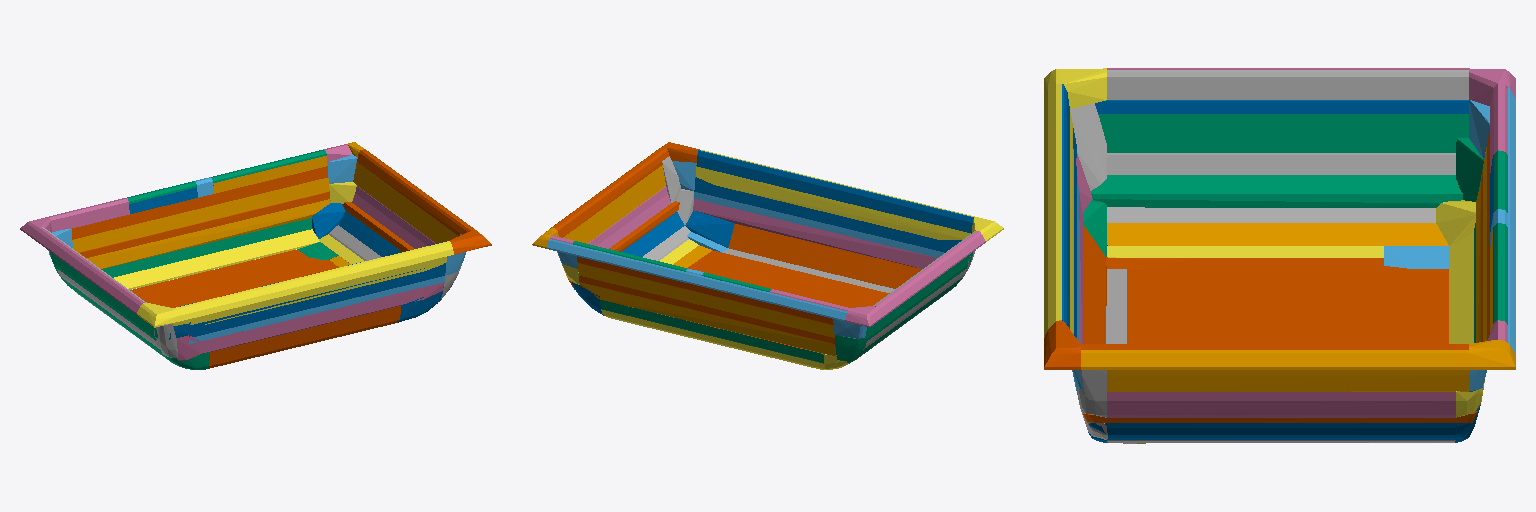
--- Render facts (derived) ---
3 views of the same robot in one strip: view 1: azimuth 30°, elevation 25°; view 2: azimuth 150°, elevation 25°; view 3: azimuth 270°, elevation 25° (orthographic).
Model root with 64 links and 63 joints (63 fixed), rooted at link_bin_convex_piece_0, posed all joints at 0.
Links seen in each view (by area): view 1: link_bin_convex_piece_45, link_bin_convex_piece_27, link_bin_convex_piece_16, link_bin_convex_piece_24, link_bin_convex_piece_19, link_bin_convex_piece_53, link_bin_convex_piece_54, link_bin_convex_piece_13, link_bin_convex_piece_28, link_bin_convex_piece_18, link_bin_convex_piece_0, link_bin_convex_piece_35 (+21 smaller); view 2: link_bin_convex_piece_53, link_bin_convex_piece_60, link_bin_convex_piece_45, link_bin_convex_piece_35, link_bin_convex_piece_54, link_bin_convex_piece_17, link_bin_convex_piece_16, link_bin_convex_piece_24, link_bin_convex_piece_28, link_bin_convex_piece_0, link_bin_convex_piece_18, link_bin_convex_piece_29 (+16 smaller); view 3: link_bin_convex_piece_45, link_bin_convex_piece_26, link_bin_convex_piece_58, link_bin_convex_piece_31, link_bin_convex_piece_32, link_bin_convex_piece_0, link_bin_convex_piece_48, link_bin_convex_piece_15, link_bin_convex_piece_36, link_bin_convex_piece_14, link_bin_convex_piece_12, link_bin_convex_piece_23 (+28 smaller).
Link boxes in pixels (box(x1,y1,x2,y2)): link_bin_convex_piece_45: box(130, 250, 338, 307); link_bin_convex_piece_27: box(174, 241, 453, 321); link_bin_convex_piece_16: box(72, 178, 329, 252); link_bin_convex_piece_24: box(86, 199, 330, 268); link_bin_convex_piece_19: box(114, 229, 319, 289); link_bin_convex_piece_53: box(207, 306, 400, 368); link_bin_convex_piece_54: box(201, 282, 444, 353); link_bin_convex_piece_13: box(72, 166, 327, 239); link_bin_convex_piece_28: box(189, 263, 445, 336); link_bin_convex_piece_18: box(101, 218, 312, 277); link_bin_convex_piece_0: box(353, 162, 458, 243); link_bin_convex_piece_35: box(172, 257, 446, 325); link_bin_convex_piece_53: box(728, 224, 921, 288); link_bin_convex_piece_60: box(696, 150, 973, 233); link_bin_convex_piece_45: box(688, 250, 889, 353); link_bin_convex_piece_35: box(696, 166, 970, 239); link_bin_convex_piece_54: box(693, 199, 936, 268); link_bin_convex_piece_17: box(547, 239, 847, 321); link_bin_convex_piece_16: box(578, 263, 834, 337); link_bin_convex_piece_24: box(579, 282, 836, 356); link_bin_convex_piece_28: box(694, 177, 951, 252); link_bin_convex_piece_0: box(563, 165, 665, 243); link_bin_convex_piece_18: box(600, 300, 823, 363); link_bin_convex_piece_29: box(552, 147, 668, 237); link_bin_convex_piece_45: box(1127, 258, 1448, 343); link_bin_convex_piece_26: box(1098, 114, 1468, 152); link_bin_convex_piece_58: box(1091, 175, 1462, 207); link_bin_convex_piece_31: box(1107, 70, 1468, 99); link_bin_convex_piece_32: box(1081, 350, 1501, 369); link_bin_convex_piece_0: box(1107, 370, 1468, 391); link_bin_convex_piece_48: box(1107, 223, 1448, 245); link_bin_convex_piece_15: box(1107, 153, 1455, 174); link_bin_convex_piece_36: box(1089, 423, 1471, 439); link_bin_convex_piece_14: box(1107, 403, 1455, 417); link_bin_convex_piece_12: box(1095, 100, 1468, 113); link_bin_convex_piece_23: box(1107, 207, 1435, 222).
Bounding box of the posed robot: 0.6779 × 0.4662 × 0.1545 m (x, y, z).
Meshes: 64 distinct files referenced, 64 mesh visuals loaded (64 OBJ).

robot.urdf — root:
<robot name="root">
  <link name="link_bin_convex_piece_0">
    <inertial>
      <origin xyz="0 0 0" rpy="0 0 0"/>
      <mass value="3.91E-02"/>
      <inertia ixx="6.03E-04" ixy="-1.07E-04" ixz="-8.19E-04" iyy="3.88E-03" iyz="-2.38E-05" izz="4.12E-03"/>
    </inertial>
    <visual>
      <origin xyz="0 0 0" rpy="0 0 0"/>
      <geometry>
        <mesh filename="bin_convex_piece_0.obj" scale="1.0000E+00 1.0000E+00 1.0000E+00"/>
      </geometry>
      <material name=""/>
    </visual>
    <collision>
      <origin xyz="0 0 0" rpy="0 0 0"/>
      <geometry>
        <mesh filename="bin_convex_piece_0.obj" scale="1.0000E+00 1.0000E+00 1.0000E+00"/>
      </geometry>
    </collision>
  </link>
  <link name="link_bin_convex_piece_1">
    <inertial>
      <origin xyz="0 0 0" rpy="0 0 0"/>
      <mass value="1.72E-02"/>
      <inertia ixx="9.69E-04" ixy="-7.27E-05" ixz="-3.28E-05" iyy="1.72E-04" iyz="-3.63E-04" izz="8.13E-04"/>
    </inertial>
    <visual>
      <origin xyz="0 0 0" rpy="0 0 0"/>
      <geometry>
        <mesh filename="bin_convex_piece_1.obj" scale="1.0000E+00 1.0000E+00 1.0000E+00"/>
      </geometry>
      <material name=""/>
    </visual>
    <collision>
      <origin xyz="0 0 0" rpy="0 0 0"/>
      <geometry>
        <mesh filename="bin_convex_piece_1.obj" scale="1.0000E+00 1.0000E+00 1.0000E+00"/>
      </geometry>
    </collision>
  </link>
  <joint name="link_bin_convex_piece_1_joint" type="fixed">
    <origin xyz="0 0 0" rpy="0 0 0"/>
    <parent link="link_bin_convex_piece_0"/>
    <child link="link_bin_convex_piece_1"/>
  </joint>
  <link name="link_bin_convex_piece_2">
    <inertial>
      <origin xyz="0 0 0" rpy="0 0 0"/>
      <mass value="4.47E-02"/>
      <inertia ixx="2.61E-03" ixy="-1.46E-03" ixz="-6.95E-04" iyy="1.68E-03" iyz="-1.01E-03" izz="3.33E-03"/>
    </inertial>
    <visual>
      <origin xyz="0 0 0" rpy="0 0 0"/>
      <geometry>
        <mesh filename="bin_convex_piece_2.obj" scale="1.0000E+00 1.0000E+00 1.0000E+00"/>
      </geometry>
      <material name=""/>
    </visual>
    <collision>
      <origin xyz="0 0 0" rpy="0 0 0"/>
      <geometry>
        <mesh filename="bin_convex_piece_2.obj" scale="1.0000E+00 1.0000E+00 1.0000E+00"/>
      </geometry>
    </collision>
  </link>
  <joint name="link_bin_convex_piece_2_joint" type="fixed">
    <origin xyz="0 0 0" rpy="0 0 0"/>
    <parent link="link_bin_convex_piece_1"/>
    <child link="link_bin_convex_piece_2"/>
  </joint>
  <link name="link_bin_convex_piece_3">
    <inertial>
      <origin xyz="0 0 0" rpy="0 0 0"/>
      <mass value="4.28E-02"/>
      <inertia ixx="4.44E-04" ixy="-1.23E-04" ixz="3.74E-04" iyy="2.42E-03" iyz="1.89E-05" izz="2.75E-03"/>
    </inertial>
    <visual>
      <origin xyz="0 0 0" rpy="0 0 0"/>
      <geometry>
        <mesh filename="bin_convex_piece_3.obj" scale="1.0000E+00 1.0000E+00 1.0000E+00"/>
      </geometry>
      <material name=""/>
    </visual>
    <collision>
      <origin xyz="0 0 0" rpy="0 0 0"/>
      <geometry>
        <mesh filename="bin_convex_piece_3.obj" scale="1.0000E+00 1.0000E+00 1.0000E+00"/>
      </geometry>
    </collision>
  </link>
  <joint name="link_bin_convex_piece_3_joint" type="fixed">
    <origin xyz="0 0 0" rpy="0 0 0"/>
    <parent link="link_bin_convex_piece_2"/>
    <child link="link_bin_convex_piece_3"/>
  </joint>
  <link name="link_bin_convex_piece_4">
    <inertial>
      <origin xyz="0 0 0" rpy="0 0 0"/>
      <mass value="6.29E-03"/>
      <inertia ixx="3.31E-04" ixy="8.61E-05" ixz="3.76E-05" iyy="8.98E-05" iyz="-1.21E-04" izz="3.14E-04"/>
    </inertial>
    <visual>
      <origin xyz="0 0 0" rpy="0 0 0"/>
      <geometry>
        <mesh filename="bin_convex_piece_4.obj" scale="1.0000E+00 1.0000E+00 1.0000E+00"/>
      </geometry>
      <material name=""/>
    </visual>
    <collision>
      <origin xyz="0 0 0" rpy="0 0 0"/>
      <geometry>
        <mesh filename="bin_convex_piece_4.obj" scale="1.0000E+00 1.0000E+00 1.0000E+00"/>
      </geometry>
    </collision>
  </link>
  <joint name="link_bin_convex_piece_4_joint" type="fixed">
    <origin xyz="0 0 0" rpy="0 0 0"/>
    <parent link="link_bin_convex_piece_3"/>
    <child link="link_bin_convex_piece_4"/>
  </joint>
  <link name="link_bin_convex_piece_5">
    <inertial>
      <origin xyz="0 0 0" rpy="0 0 0"/>
      <mass value="1.16E-02"/>
      <inertia ixx="4.76E-04" ixy="-1.43E-05" ixz="-2.08E-06" iyy="2.63E-04" iyz="-6.71E-05" izz="7.20E-04"/>
    </inertial>
    <visual>
      <origin xyz="0 0 0" rpy="0 0 0"/>
      <geometry>
        <mesh filename="bin_convex_piece_5.obj" scale="1.0000E+00 1.0000E+00 1.0000E+00"/>
      </geometry>
      <material name=""/>
    </visual>
    <collision>
      <origin xyz="0 0 0" rpy="0 0 0"/>
      <geometry>
        <mesh filename="bin_convex_piece_5.obj" scale="1.0000E+00 1.0000E+00 1.0000E+00"/>
      </geometry>
    </collision>
  </link>
  <joint name="link_bin_convex_piece_5_joint" type="fixed">
    <origin xyz="0 0 0" rpy="0 0 0"/>
    <parent link="link_bin_convex_piece_4"/>
    <child link="link_bin_convex_piece_5"/>
  </joint>
  <link name="link_bin_convex_piece_6">
    <inertial>
      <origin xyz="0 0 0" rpy="0 0 0"/>
      <mass value="1.32E-02"/>
      <inertia ixx="1.54E-04" ixy="-6.06E-06" ixz="-1.66E-04" iyy="1.23E-03" iyz="-8.32E-07" izz="1.34E-03"/>
    </inertial>
    <visual>
      <origin xyz="0 0 0" rpy="0 0 0"/>
      <geometry>
        <mesh filename="bin_convex_piece_6.obj" scale="1.0000E+00 1.0000E+00 1.0000E+00"/>
      </geometry>
      <material name=""/>
    </visual>
    <collision>
      <origin xyz="0 0 0" rpy="0 0 0"/>
      <geometry>
        <mesh filename="bin_convex_piece_6.obj" scale="1.0000E+00 1.0000E+00 1.0000E+00"/>
      </geometry>
    </collision>
  </link>
  <joint name="link_bin_convex_piece_6_joint" type="fixed">
    <origin xyz="0 0 0" rpy="0 0 0"/>
    <parent link="link_bin_convex_piece_5"/>
    <child link="link_bin_convex_piece_6"/>
  </joint>
  <link name="link_bin_convex_piece_7">
    <inertial>
      <origin xyz="0 0 0" rpy="0 0 0"/>
      <mass value="4.57E-02"/>
      <inertia ixx="1.28E-03" ixy="6.74E-19" ixz="6.07E-20" iyy="5.79E-04" iyz="-3.28E-04" izz="1.68E-03"/>
    </inertial>
    <visual>
      <origin xyz="0 0 0" rpy="0 0 0"/>
      <geometry>
        <mesh filename="bin_convex_piece_7.obj" scale="1.0000E+00 1.0000E+00 1.0000E+00"/>
      </geometry>
      <material name=""/>
    </visual>
    <collision>
      <origin xyz="0 0 0" rpy="0 0 0"/>
      <geometry>
        <mesh filename="bin_convex_piece_7.obj" scale="1.0000E+00 1.0000E+00 1.0000E+00"/>
      </geometry>
    </collision>
  </link>
  <joint name="link_bin_convex_piece_7_joint" type="fixed">
    <origin xyz="0 0 0" rpy="0 0 0"/>
    <parent link="link_bin_convex_piece_6"/>
    <child link="link_bin_convex_piece_7"/>
  </joint>
  <link name="link_bin_convex_piece_8">
    <inertial>
      <origin xyz="0 0 0" rpy="0 0 0"/>
      <mass value="1.05E-02"/>
      <inertia ixx="5.51E-04" ixy="-3.30E-04" ixz="-1.44E-04" iyy="3.70E-04" iyz="-2.02E-04" izz="7.44E-04"/>
    </inertial>
    <visual>
      <origin xyz="0 0 0" rpy="0 0 0"/>
      <geometry>
        <mesh filename="bin_convex_piece_8.obj" scale="1.0000E+00 1.0000E+00 1.0000E+00"/>
      </geometry>
      <material name=""/>
    </visual>
    <collision>
      <origin xyz="0 0 0" rpy="0 0 0"/>
      <geometry>
        <mesh filename="bin_convex_piece_8.obj" scale="1.0000E+00 1.0000E+00 1.0000E+00"/>
      </geometry>
    </collision>
  </link>
  <joint name="link_bin_convex_piece_8_joint" type="fixed">
    <origin xyz="0 0 0" rpy="0 0 0"/>
    <parent link="link_bin_convex_piece_7"/>
    <child link="link_bin_convex_piece_8"/>
  </joint>
  <link name="link_bin_convex_piece_9">
    <inertial>
      <origin xyz="0 0 0" rpy="0 0 0"/>
      <mass value="1.15E-02"/>
      <inertia ixx="4.71E-04" ixy="1.25E-05" ixz="-1.83E-06" iyy="2.61E-04" iyz="6.64E-05" izz="7.12E-04"/>
    </inertial>
    <visual>
      <origin xyz="0 0 0" rpy="0 0 0"/>
      <geometry>
        <mesh filename="bin_convex_piece_9.obj" scale="1.0000E+00 1.0000E+00 1.0000E+00"/>
      </geometry>
      <material name=""/>
    </visual>
    <collision>
      <origin xyz="0 0 0" rpy="0 0 0"/>
      <geometry>
        <mesh filename="bin_convex_piece_9.obj" scale="1.0000E+00 1.0000E+00 1.0000E+00"/>
      </geometry>
    </collision>
  </link>
  <joint name="link_bin_convex_piece_9_joint" type="fixed">
    <origin xyz="0 0 0" rpy="0 0 0"/>
    <parent link="link_bin_convex_piece_8"/>
    <child link="link_bin_convex_piece_9"/>
  </joint>
  <link name="link_bin_convex_piece_10">
    <inertial>
      <origin xyz="0 0 0" rpy="0 0 0"/>
      <mass value="2.69E-02"/>
      <inertia ixx="1.57E-03" ixy="3.82E-04" ixz="1.81E-04" iyy="4.44E-04" iyz="-6.07E-04" izz="1.43E-03"/>
    </inertial>
    <visual>
      <origin xyz="0 0 0" rpy="0 0 0"/>
      <geometry>
        <mesh filename="bin_convex_piece_10.obj" scale="1.0000E+00 1.0000E+00 1.0000E+00"/>
      </geometry>
      <material name=""/>
    </visual>
    <collision>
      <origin xyz="0 0 0" rpy="0 0 0"/>
      <geometry>
        <mesh filename="bin_convex_piece_10.obj" scale="1.0000E+00 1.0000E+00 1.0000E+00"/>
      </geometry>
    </collision>
  </link>
  <joint name="link_bin_convex_piece_10_joint" type="fixed">
    <origin xyz="0 0 0" rpy="0 0 0"/>
    <parent link="link_bin_convex_piece_9"/>
    <child link="link_bin_convex_piece_10"/>
  </joint>
  <link name="link_bin_convex_piece_11">
    <inertial>
      <origin xyz="0 0 0" rpy="0 0 0"/>
      <mass value="3.53E-02"/>
      <inertia ixx="3.27E-04" ixy="-2.65E-04" ixz="-3.23E-04" iyy="1.70E-03" iyz="-5.24E-05" izz="1.90E-03"/>
    </inertial>
    <visual>
      <origin xyz="0 0 0" rpy="0 0 0"/>
      <geometry>
        <mesh filename="bin_convex_piece_11.obj" scale="1.0000E+00 1.0000E+00 1.0000E+00"/>
      </geometry>
      <material name=""/>
    </visual>
    <collision>
      <origin xyz="0 0 0" rpy="0 0 0"/>
      <geometry>
        <mesh filename="bin_convex_piece_11.obj" scale="1.0000E+00 1.0000E+00 1.0000E+00"/>
      </geometry>
    </collision>
  </link>
  <joint name="link_bin_convex_piece_11_joint" type="fixed">
    <origin xyz="0 0 0" rpy="0 0 0"/>
    <parent link="link_bin_convex_piece_10"/>
    <child link="link_bin_convex_piece_11"/>
  </joint>
  <link name="link_bin_convex_piece_12">
    <inertial>
      <origin xyz="0 0 0" rpy="0 0 0"/>
      <mass value="1.16E-02"/>
      <inertia ixx="1.98E-04" ixy="5.41E-06" ixz="2.68E-04" iyy="1.17E-03" iyz="-1.30E-06" izz="1.24E-03"/>
    </inertial>
    <visual>
      <origin xyz="0 0 0" rpy="0 0 0"/>
      <geometry>
        <mesh filename="bin_convex_piece_12.obj" scale="1.0000E+00 1.0000E+00 1.0000E+00"/>
      </geometry>
      <material name=""/>
    </visual>
    <collision>
      <origin xyz="0 0 0" rpy="0 0 0"/>
      <geometry>
        <mesh filename="bin_convex_piece_12.obj" scale="1.0000E+00 1.0000E+00 1.0000E+00"/>
      </geometry>
    </collision>
  </link>
  <joint name="link_bin_convex_piece_12_joint" type="fixed">
    <origin xyz="0 0 0" rpy="0 0 0"/>
    <parent link="link_bin_convex_piece_11"/>
    <child link="link_bin_convex_piece_12"/>
  </joint>
  <link name="link_bin_convex_piece_13">
    <inertial>
      <origin xyz="0 0 0" rpy="0 0 0"/>
      <mass value="1.80E-02"/>
      <inertia ixx="8.65E-04" ixy="-2.43E-05" ixz="-8.38E-06" iyy="4.91E-04" iyz="-2.66E-04" izz="1.17E-03"/>
    </inertial>
    <visual>
      <origin xyz="0 0 0" rpy="0 0 0"/>
      <geometry>
        <mesh filename="bin_convex_piece_13.obj" scale="1.0000E+00 1.0000E+00 1.0000E+00"/>
      </geometry>
      <material name=""/>
    </visual>
    <collision>
      <origin xyz="0 0 0" rpy="0 0 0"/>
      <geometry>
        <mesh filename="bin_convex_piece_13.obj" scale="1.0000E+00 1.0000E+00 1.0000E+00"/>
      </geometry>
    </collision>
  </link>
  <joint name="link_bin_convex_piece_13_joint" type="fixed">
    <origin xyz="0 0 0" rpy="0 0 0"/>
    <parent link="link_bin_convex_piece_12"/>
    <child link="link_bin_convex_piece_13"/>
  </joint>
  <link name="link_bin_convex_piece_14">
    <inertial>
      <origin xyz="0 0 0" rpy="0 0 0"/>
      <mass value="2.27E-02"/>
      <inertia ixx="2.40E-04" ixy="-1.28E-05" ixz="-1.71E-04" iyy="2.02E-03" iyz="-1.07E-06" izz="2.23E-03"/>
    </inertial>
    <visual>
      <origin xyz="0 0 0" rpy="0 0 0"/>
      <geometry>
        <mesh filename="bin_convex_piece_14.obj" scale="1.0000E+00 1.0000E+00 1.0000E+00"/>
      </geometry>
      <material name=""/>
    </visual>
    <collision>
      <origin xyz="0 0 0" rpy="0 0 0"/>
      <geometry>
        <mesh filename="bin_convex_piece_14.obj" scale="1.0000E+00 1.0000E+00 1.0000E+00"/>
      </geometry>
    </collision>
  </link>
  <joint name="link_bin_convex_piece_14_joint" type="fixed">
    <origin xyz="0 0 0" rpy="0 0 0"/>
    <parent link="link_bin_convex_piece_13"/>
    <child link="link_bin_convex_piece_14"/>
  </joint>
  <link name="link_bin_convex_piece_15">
    <inertial>
      <origin xyz="0 0 0" rpy="0 0 0"/>
      <mass value="2.90E-02"/>
      <inertia ixx="2.97E-04" ixy="1.47E-05" ixz="1.49E-04" iyy="2.52E-03" iyz="-8.75E-07" izz="2.79E-03"/>
    </inertial>
    <visual>
      <origin xyz="0 0 0" rpy="0 0 0"/>
      <geometry>
        <mesh filename="bin_convex_piece_15.obj" scale="1.0000E+00 1.0000E+00 1.0000E+00"/>
      </geometry>
      <material name=""/>
    </visual>
    <collision>
      <origin xyz="0 0 0" rpy="0 0 0"/>
      <geometry>
        <mesh filename="bin_convex_piece_15.obj" scale="1.0000E+00 1.0000E+00 1.0000E+00"/>
      </geometry>
    </collision>
  </link>
  <joint name="link_bin_convex_piece_15_joint" type="fixed">
    <origin xyz="0 0 0" rpy="0 0 0"/>
    <parent link="link_bin_convex_piece_14"/>
    <child link="link_bin_convex_piece_15"/>
  </joint>
  <link name="link_bin_convex_piece_16">
    <inertial>
      <origin xyz="0 0 0" rpy="0 0 0"/>
      <mass value="2.29E-02"/>
      <inertia ixx="1.00E-03" ixy="-3.02E-05" ixz="-7.22E-06" iyy="5.61E-04" iyz="-2.26E-04" izz="1.45E-03"/>
    </inertial>
    <visual>
      <origin xyz="0 0 0" rpy="0 0 0"/>
      <geometry>
        <mesh filename="bin_convex_piece_16.obj" scale="1.0000E+00 1.0000E+00 1.0000E+00"/>
      </geometry>
      <material name=""/>
    </visual>
    <collision>
      <origin xyz="0 0 0" rpy="0 0 0"/>
      <geometry>
        <mesh filename="bin_convex_piece_16.obj" scale="1.0000E+00 1.0000E+00 1.0000E+00"/>
      </geometry>
    </collision>
  </link>
  <joint name="link_bin_convex_piece_16_joint" type="fixed">
    <origin xyz="0 0 0" rpy="0 0 0"/>
    <parent link="link_bin_convex_piece_15"/>
    <child link="link_bin_convex_piece_16"/>
  </joint>
  <link name="link_bin_convex_piece_17">
    <inertial>
      <origin xyz="0 0 0" rpy="0 0 0"/>
      <mass value="4.82E-02"/>
      <inertia ixx="2.99E-03" ixy="-1.08E-04" ixz="-4.51E-05" iyy="1.89E-03" iyz="-1.06E-03" izz="3.99E-03"/>
    </inertial>
    <visual>
      <origin xyz="0 0 0" rpy="0 0 0"/>
      <geometry>
        <mesh filename="bin_convex_piece_17.obj" scale="1.0000E+00 1.0000E+00 1.0000E+00"/>
      </geometry>
      <material name=""/>
    </visual>
    <collision>
      <origin xyz="0 0 0" rpy="0 0 0"/>
      <geometry>
        <mesh filename="bin_convex_piece_17.obj" scale="1.0000E+00 1.0000E+00 1.0000E+00"/>
      </geometry>
    </collision>
  </link>
  <joint name="link_bin_convex_piece_17_joint" type="fixed">
    <origin xyz="0 0 0" rpy="0 0 0"/>
    <parent link="link_bin_convex_piece_16"/>
    <child link="link_bin_convex_piece_17"/>
  </joint>
  <link name="link_bin_convex_piece_18">
    <inertial>
      <origin xyz="0 0 0" rpy="0 0 0"/>
      <mass value="1.90E-02"/>
      <inertia ixx="7.21E-04" ixy="-1.59E-06" ixz="1.97E-07" iyy="3.26E-04" iyz="5.29E-05" izz="1.04E-03"/>
    </inertial>
    <visual>
      <origin xyz="0 0 0" rpy="0 0 0"/>
      <geometry>
        <mesh filename="bin_convex_piece_18.obj" scale="1.0000E+00 1.0000E+00 1.0000E+00"/>
      </geometry>
      <material name=""/>
    </visual>
    <collision>
      <origin xyz="0 0 0" rpy="0 0 0"/>
      <geometry>
        <mesh filename="bin_convex_piece_18.obj" scale="1.0000E+00 1.0000E+00 1.0000E+00"/>
      </geometry>
    </collision>
  </link>
  <joint name="link_bin_convex_piece_18_joint" type="fixed">
    <origin xyz="0 0 0" rpy="0 0 0"/>
    <parent link="link_bin_convex_piece_17"/>
    <child link="link_bin_convex_piece_18"/>
  </joint>
  <link name="link_bin_convex_piece_19">
    <inertial>
      <origin xyz="0 0 0" rpy="0 0 0"/>
      <mass value="1.85E-01"/>
      <inertia ixx="6.26E-03" ixy="8.49E-19" ixz="-1.21E-19" iyy="3.34E-03" iyz="1.18E-03" izz="9.12E-03"/>
    </inertial>
    <visual>
      <origin xyz="0 0 0" rpy="0 0 0"/>
      <geometry>
        <mesh filename="bin_convex_piece_19.obj" scale="1.0000E+00 1.0000E+00 1.0000E+00"/>
      </geometry>
      <material name=""/>
    </visual>
    <collision>
      <origin xyz="0 0 0" rpy="0 0 0"/>
      <geometry>
        <mesh filename="bin_convex_piece_19.obj" scale="1.0000E+00 1.0000E+00 1.0000E+00"/>
      </geometry>
    </collision>
  </link>
  <joint name="link_bin_convex_piece_19_joint" type="fixed">
    <origin xyz="0 0 0" rpy="0 0 0"/>
    <parent link="link_bin_convex_piece_18"/>
    <child link="link_bin_convex_piece_19"/>
  </joint>
  <link name="link_bin_convex_piece_20">
    <inertial>
      <origin xyz="0 0 0" rpy="0 0 0"/>
      <mass value="2.63E-03"/>
      <inertia ixx="1.17E-04" ixy="-1.45E-04" ixz="3.88E-05" iyy="2.01E-04" iyz="2.92E-05" izz="3.02E-04"/>
    </inertial>
    <visual>
      <origin xyz="0 0 0" rpy="0 0 0"/>
      <geometry>
        <mesh filename="bin_convex_piece_20.obj" scale="1.0000E+00 1.0000E+00 1.0000E+00"/>
      </geometry>
      <material name=""/>
    </visual>
    <collision>
      <origin xyz="0 0 0" rpy="0 0 0"/>
      <geometry>
        <mesh filename="bin_convex_piece_20.obj" scale="1.0000E+00 1.0000E+00 1.0000E+00"/>
      </geometry>
    </collision>
  </link>
  <joint name="link_bin_convex_piece_20_joint" type="fixed">
    <origin xyz="0 0 0" rpy="0 0 0"/>
    <parent link="link_bin_convex_piece_19"/>
    <child link="link_bin_convex_piece_20"/>
  </joint>
  <link name="link_bin_convex_piece_21">
    <inertial>
      <origin xyz="0 0 0" rpy="0 0 0"/>
      <mass value="8.05E-02"/>
      <inertia ixx="9.85E-04" ixy="-5.69E-05" ixz="-2.83E-04" iyy="6.59E-03" iyz="-3.79E-06" izz="7.55E-03"/>
    </inertial>
    <visual>
      <origin xyz="0 0 0" rpy="0 0 0"/>
      <geometry>
        <mesh filename="bin_convex_piece_21.obj" scale="1.0000E+00 1.0000E+00 1.0000E+00"/>
      </geometry>
      <material name=""/>
    </visual>
    <collision>
      <origin xyz="0 0 0" rpy="0 0 0"/>
      <geometry>
        <mesh filename="bin_convex_piece_21.obj" scale="1.0000E+00 1.0000E+00 1.0000E+00"/>
      </geometry>
    </collision>
  </link>
  <joint name="link_bin_convex_piece_21_joint" type="fixed">
    <origin xyz="0 0 0" rpy="0 0 0"/>
    <parent link="link_bin_convex_piece_20"/>
    <child link="link_bin_convex_piece_21"/>
  </joint>
  <link name="link_bin_convex_piece_22">
    <inertial>
      <origin xyz="0 0 0" rpy="0 0 0"/>
      <mass value="9.25E-02"/>
      <inertia ixx="1.90E-03" ixy="2.46E-04" ixz="3.02E-03" iyy="1.10E-02" iyz="-7.35E-05" izz="1.11E-02"/>
    </inertial>
    <visual>
      <origin xyz="0 0 0" rpy="0 0 0"/>
      <geometry>
        <mesh filename="bin_convex_piece_22.obj" scale="1.0000E+00 1.0000E+00 1.0000E+00"/>
      </geometry>
      <material name=""/>
    </visual>
    <collision>
      <origin xyz="0 0 0" rpy="0 0 0"/>
      <geometry>
        <mesh filename="bin_convex_piece_22.obj" scale="1.0000E+00 1.0000E+00 1.0000E+00"/>
      </geometry>
    </collision>
  </link>
  <joint name="link_bin_convex_piece_22_joint" type="fixed">
    <origin xyz="0 0 0" rpy="0 0 0"/>
    <parent link="link_bin_convex_piece_21"/>
    <child link="link_bin_convex_piece_22"/>
  </joint>
  <link name="link_bin_convex_piece_23">
    <inertial>
      <origin xyz="0 0 0" rpy="0 0 0"/>
      <mass value="4.57E-02"/>
      <inertia ixx="4.33E-04" ixy="-1.05E-04" ixz="-2.74E-04" iyy="3.14E-03" iyz="-9.17E-06" izz="3.53E-03"/>
    </inertial>
    <visual>
      <origin xyz="0 0 0" rpy="0 0 0"/>
      <geometry>
        <mesh filename="bin_convex_piece_23.obj" scale="1.0000E+00 1.0000E+00 1.0000E+00"/>
      </geometry>
      <material name=""/>
    </visual>
    <collision>
      <origin xyz="0 0 0" rpy="0 0 0"/>
      <geometry>
        <mesh filename="bin_convex_piece_23.obj" scale="1.0000E+00 1.0000E+00 1.0000E+00"/>
      </geometry>
    </collision>
  </link>
  <joint name="link_bin_convex_piece_23_joint" type="fixed">
    <origin xyz="0 0 0" rpy="0 0 0"/>
    <parent link="link_bin_convex_piece_22"/>
    <child link="link_bin_convex_piece_23"/>
  </joint>
  <link name="link_bin_convex_piece_24">
    <inertial>
      <origin xyz="0 0 0" rpy="0 0 0"/>
      <mass value="4.55E-02"/>
      <inertia ixx="1.77E-03" ixy="-2.76E-04" ixz="-9.81E-06" iyy="9.16E-04" iyz="-7.30E-05" izz="2.67E-03"/>
    </inertial>
    <visual>
      <origin xyz="0 0 0" rpy="0 0 0"/>
      <geometry>
        <mesh filename="bin_convex_piece_24.obj" scale="1.0000E+00 1.0000E+00 1.0000E+00"/>
      </geometry>
      <material name=""/>
    </visual>
    <collision>
      <origin xyz="0 0 0" rpy="0 0 0"/>
      <geometry>
        <mesh filename="bin_convex_piece_24.obj" scale="1.0000E+00 1.0000E+00 1.0000E+00"/>
      </geometry>
    </collision>
  </link>
  <joint name="link_bin_convex_piece_24_joint" type="fixed">
    <origin xyz="0 0 0" rpy="0 0 0"/>
    <parent link="link_bin_convex_piece_23"/>
    <child link="link_bin_convex_piece_24"/>
  </joint>
  <link name="link_bin_convex_piece_25">
    <inertial>
      <origin xyz="0 0 0" rpy="0 0 0"/>
      <mass value="2.06E-02"/>
      <inertia ixx="4.24E-04" ixy="5.66E-04" ixz="-1.79E-04" iyy="8.88E-04" iyz="1.20E-04" izz="1.24E-03"/>
    </inertial>
    <visual>
      <origin xyz="0 0 0" rpy="0 0 0"/>
      <geometry>
        <mesh filename="bin_convex_piece_25.obj" scale="1.0000E+00 1.0000E+00 1.0000E+00"/>
      </geometry>
      <material name=""/>
    </visual>
    <collision>
      <origin xyz="0 0 0" rpy="0 0 0"/>
      <geometry>
        <mesh filename="bin_convex_piece_25.obj" scale="1.0000E+00 1.0000E+00 1.0000E+00"/>
      </geometry>
    </collision>
  </link>
  <joint name="link_bin_convex_piece_25_joint" type="fixed">
    <origin xyz="0 0 0" rpy="0 0 0"/>
    <parent link="link_bin_convex_piece_24"/>
    <child link="link_bin_convex_piece_25"/>
  </joint>
  <link name="link_bin_convex_piece_26">
    <inertial>
      <origin xyz="0 0 0" rpy="0 0 0"/>
      <mass value="5.45E-02"/>
      <inertia ixx="7.36E-04" ixy="3.57E-05" ixz="7.77E-04" iyy="5.14E-03" iyz="-5.46E-06" izz="5.62E-03"/>
    </inertial>
    <visual>
      <origin xyz="0 0 0" rpy="0 0 0"/>
      <geometry>
        <mesh filename="bin_convex_piece_26.obj" scale="1.0000E+00 1.0000E+00 1.0000E+00"/>
      </geometry>
      <material name=""/>
    </visual>
    <collision>
      <origin xyz="0 0 0" rpy="0 0 0"/>
      <geometry>
        <mesh filename="bin_convex_piece_26.obj" scale="1.0000E+00 1.0000E+00 1.0000E+00"/>
      </geometry>
    </collision>
  </link>
  <joint name="link_bin_convex_piece_26_joint" type="fixed">
    <origin xyz="0 0 0" rpy="0 0 0"/>
    <parent link="link_bin_convex_piece_25"/>
    <child link="link_bin_convex_piece_26"/>
  </joint>
  <link name="link_bin_convex_piece_27">
    <inertial>
      <origin xyz="0 0 0" rpy="0 0 0"/>
      <mass value="1.78E-01"/>
      <inertia ixx="1.06E-02" ixy="-5.18E-04" ixz="2.32E-04" iyy="6.36E-03" iyz="3.96E-03" izz="1.34E-02"/>
    </inertial>
    <visual>
      <origin xyz="0 0 0" rpy="0 0 0"/>
      <geometry>
        <mesh filename="bin_convex_piece_27.obj" scale="1.0000E+00 1.0000E+00 1.0000E+00"/>
      </geometry>
      <material name=""/>
    </visual>
    <collision>
      <origin xyz="0 0 0" rpy="0 0 0"/>
      <geometry>
        <mesh filename="bin_convex_piece_27.obj" scale="1.0000E+00 1.0000E+00 1.0000E+00"/>
      </geometry>
    </collision>
  </link>
  <joint name="link_bin_convex_piece_27_joint" type="fixed">
    <origin xyz="0 0 0" rpy="0 0 0"/>
    <parent link="link_bin_convex_piece_26"/>
    <child link="link_bin_convex_piece_27"/>
  </joint>
  <link name="link_bin_convex_piece_28">
    <inertial>
      <origin xyz="0 0 0" rpy="0 0 0"/>
      <mass value="2.38E-02"/>
      <inertia ixx="1.04E-03" ixy="3.10E-05" ixz="-7.41E-06" iyy="5.82E-04" iyz="2.35E-04" izz="1.51E-03"/>
    </inertial>
    <visual>
      <origin xyz="0 0 0" rpy="0 0 0"/>
      <geometry>
        <mesh filename="bin_convex_piece_28.obj" scale="1.0000E+00 1.0000E+00 1.0000E+00"/>
      </geometry>
      <material name=""/>
    </visual>
    <collision>
      <origin xyz="0 0 0" rpy="0 0 0"/>
      <geometry>
        <mesh filename="bin_convex_piece_28.obj" scale="1.0000E+00 1.0000E+00 1.0000E+00"/>
      </geometry>
    </collision>
  </link>
  <joint name="link_bin_convex_piece_28_joint" type="fixed">
    <origin xyz="0 0 0" rpy="0 0 0"/>
    <parent link="link_bin_convex_piece_27"/>
    <child link="link_bin_convex_piece_28"/>
  </joint>
  <link name="link_bin_convex_piece_29">
    <inertial>
      <origin xyz="0 0 0" rpy="0 0 0"/>
      <mass value="1.57E-01"/>
      <inertia ixx="3.49E-03" ixy="2.36E-04" ixz="-5.03E-03" iyy="1.77E-02" iyz="7.44E-05" izz="1.80E-02"/>
    </inertial>
    <visual>
      <origin xyz="0 0 0" rpy="0 0 0"/>
      <geometry>
        <mesh filename="bin_convex_piece_29.obj" scale="1.0000E+00 1.0000E+00 1.0000E+00"/>
      </geometry>
      <material name=""/>
    </visual>
    <collision>
      <origin xyz="0 0 0" rpy="0 0 0"/>
      <geometry>
        <mesh filename="bin_convex_piece_29.obj" scale="1.0000E+00 1.0000E+00 1.0000E+00"/>
      </geometry>
    </collision>
  </link>
  <joint name="link_bin_convex_piece_29_joint" type="fixed">
    <origin xyz="0 0 0" rpy="0 0 0"/>
    <parent link="link_bin_convex_piece_28"/>
    <child link="link_bin_convex_piece_29"/>
  </joint>
  <link name="link_bin_convex_piece_30">
    <inertial>
      <origin xyz="0 0 0" rpy="0 0 0"/>
      <mass value="2.50E-02"/>
      <inertia ixx="1.39E-03" ixy="-1.55E-03" ixz="-7.10E-04" iyy="2.33E-03" iyz="-5.28E-04" izz="3.24E-03"/>
    </inertial>
    <visual>
      <origin xyz="0 0 0" rpy="0 0 0"/>
      <geometry>
        <mesh filename="bin_convex_piece_30.obj" scale="1.0000E+00 1.0000E+00 1.0000E+00"/>
      </geometry>
      <material name=""/>
    </visual>
    <collision>
      <origin xyz="0 0 0" rpy="0 0 0"/>
      <geometry>
        <mesh filename="bin_convex_piece_30.obj" scale="1.0000E+00 1.0000E+00 1.0000E+00"/>
      </geometry>
    </collision>
  </link>
  <joint name="link_bin_convex_piece_30_joint" type="fixed">
    <origin xyz="0 0 0" rpy="0 0 0"/>
    <parent link="link_bin_convex_piece_29"/>
    <child link="link_bin_convex_piece_30"/>
  </joint>
  <link name="link_bin_convex_piece_31">
    <inertial>
      <origin xyz="0 0 0" rpy="0 0 0"/>
      <mass value="8.39E-02"/>
      <inertia ixx="1.71E-03" ixy="2.13E-04" ixz="2.59E-03" iyy="9.21E-03" iyz="-6.58E-05" izz="9.31E-03"/>
    </inertial>
    <visual>
      <origin xyz="0 0 0" rpy="0 0 0"/>
      <geometry>
        <mesh filename="bin_convex_piece_31.obj" scale="1.0000E+00 1.0000E+00 1.0000E+00"/>
      </geometry>
      <material name=""/>
    </visual>
    <collision>
      <origin xyz="0 0 0" rpy="0 0 0"/>
      <geometry>
        <mesh filename="bin_convex_piece_31.obj" scale="1.0000E+00 1.0000E+00 1.0000E+00"/>
      </geometry>
    </collision>
  </link>
  <joint name="link_bin_convex_piece_31_joint" type="fixed">
    <origin xyz="0 0 0" rpy="0 0 0"/>
    <parent link="link_bin_convex_piece_30"/>
    <child link="link_bin_convex_piece_31"/>
  </joint>
  <link name="link_bin_convex_piece_32">
    <inertial>
      <origin xyz="0 0 0" rpy="0 0 0"/>
      <mass value="5.11E-02"/>
      <inertia ixx="1.19E-03" ixy="-1.25E-04" ixz="-1.63E-03" iyy="6.18E-03" iyz="-3.47E-05" izz="6.42E-03"/>
    </inertial>
    <visual>
      <origin xyz="0 0 0" rpy="0 0 0"/>
      <geometry>
        <mesh filename="bin_convex_piece_32.obj" scale="1.0000E+00 1.0000E+00 1.0000E+00"/>
      </geometry>
      <material name=""/>
    </visual>
    <collision>
      <origin xyz="0 0 0" rpy="0 0 0"/>
      <geometry>
        <mesh filename="bin_convex_piece_32.obj" scale="1.0000E+00 1.0000E+00 1.0000E+00"/>
      </geometry>
    </collision>
  </link>
  <joint name="link_bin_convex_piece_32_joint" type="fixed">
    <origin xyz="0 0 0" rpy="0 0 0"/>
    <parent link="link_bin_convex_piece_31"/>
    <child link="link_bin_convex_piece_32"/>
  </joint>
  <link name="link_bin_convex_piece_33">
    <inertial>
      <origin xyz="0 0 0" rpy="0 0 0"/>
      <mass value="1.96E-02"/>
      <inertia ixx="8.98E-04" ixy="1.15E-03" ixz="-3.81E-04" iyy="1.74E-03" iyz="2.66E-04" izz="2.45E-03"/>
    </inertial>
    <visual>
      <origin xyz="0 0 0" rpy="0 0 0"/>
      <geometry>
        <mesh filename="bin_convex_piece_33.obj" scale="1.0000E+00 1.0000E+00 1.0000E+00"/>
      </geometry>
      <material name=""/>
    </visual>
    <collision>
      <origin xyz="0 0 0" rpy="0 0 0"/>
      <geometry>
        <mesh filename="bin_convex_piece_33.obj" scale="1.0000E+00 1.0000E+00 1.0000E+00"/>
      </geometry>
    </collision>
  </link>
  <joint name="link_bin_convex_piece_33_joint" type="fixed">
    <origin xyz="0 0 0" rpy="0 0 0"/>
    <parent link="link_bin_convex_piece_32"/>
    <child link="link_bin_convex_piece_33"/>
  </joint>
  <link name="link_bin_convex_piece_34">
    <inertial>
      <origin xyz="0 0 0" rpy="0 0 0"/>
      <mass value="2.09E-02"/>
      <inertia ixx="4.36E-04" ixy="-5.82E-04" ixz="1.83E-04" iyy="9.10E-04" iyz="1.23E-04" izz="1.27E-03"/>
    </inertial>
    <visual>
      <origin xyz="0 0 0" rpy="0 0 0"/>
      <geometry>
        <mesh filename="bin_convex_piece_34.obj" scale="1.0000E+00 1.0000E+00 1.0000E+00"/>
      </geometry>
      <material name=""/>
    </visual>
    <collision>
      <origin xyz="0 0 0" rpy="0 0 0"/>
      <geometry>
        <mesh filename="bin_convex_piece_34.obj" scale="1.0000E+00 1.0000E+00 1.0000E+00"/>
      </geometry>
    </collision>
  </link>
  <joint name="link_bin_convex_piece_34_joint" type="fixed">
    <origin xyz="0 0 0" rpy="0 0 0"/>
    <parent link="link_bin_convex_piece_33"/>
    <child link="link_bin_convex_piece_34"/>
  </joint>
  <link name="link_bin_convex_piece_35">
    <inertial>
      <origin xyz="0 0 0" rpy="0 0 0"/>
      <mass value="2.98E-02"/>
      <inertia ixx="1.41E-03" ixy="-1.19E-04" ixz="4.04E-05" iyy="8.41E-04" iyz="4.20E-04" izz="1.97E-03"/>
    </inertial>
    <visual>
      <origin xyz="0 0 0" rpy="0 0 0"/>
      <geometry>
        <mesh filename="bin_convex_piece_35.obj" scale="1.0000E+00 1.0000E+00 1.0000E+00"/>
      </geometry>
      <material name=""/>
    </visual>
    <collision>
      <origin xyz="0 0 0" rpy="0 0 0"/>
      <geometry>
        <mesh filename="bin_convex_piece_35.obj" scale="1.0000E+00 1.0000E+00 1.0000E+00"/>
      </geometry>
    </collision>
  </link>
  <joint name="link_bin_convex_piece_35_joint" type="fixed">
    <origin xyz="0 0 0" rpy="0 0 0"/>
    <parent link="link_bin_convex_piece_34"/>
    <child link="link_bin_convex_piece_35"/>
  </joint>
  <link name="link_bin_convex_piece_36">
    <inertial>
      <origin xyz="0 0 0" rpy="0 0 0"/>
      <mass value="7.61E-02"/>
      <inertia ixx="8.22E-04" ixy="-1.53E-04" ixz="1.62E-04" iyy="5.80E-03" iyz="1.99E-06" izz="6.61E-03"/>
    </inertial>
    <visual>
      <origin xyz="0 0 0" rpy="0 0 0"/>
      <geometry>
        <mesh filename="bin_convex_piece_36.obj" scale="1.0000E+00 1.0000E+00 1.0000E+00"/>
      </geometry>
      <material name=""/>
    </visual>
    <collision>
      <origin xyz="0 0 0" rpy="0 0 0"/>
      <geometry>
        <mesh filename="bin_convex_piece_36.obj" scale="1.0000E+00 1.0000E+00 1.0000E+00"/>
      </geometry>
    </collision>
  </link>
  <joint name="link_bin_convex_piece_36_joint" type="fixed">
    <origin xyz="0 0 0" rpy="0 0 0"/>
    <parent link="link_bin_convex_piece_35"/>
    <child link="link_bin_convex_piece_36"/>
  </joint>
  <link name="link_bin_convex_piece_37">
    <inertial>
      <origin xyz="0 0 0" rpy="0 0 0"/>
      <mass value="1.34E-02"/>
      <inertia ixx="2.67E-04" ixy="-3.42E-04" ixz="-1.15E-04" iyy="5.30E-04" iyz="-7.83E-05" izz="7.44E-04"/>
    </inertial>
    <visual>
      <origin xyz="0 0 0" rpy="0 0 0"/>
      <geometry>
        <mesh filename="bin_convex_piece_37.obj" scale="1.0000E+00 1.0000E+00 1.0000E+00"/>
      </geometry>
      <material name=""/>
    </visual>
    <collision>
      <origin xyz="0 0 0" rpy="0 0 0"/>
      <geometry>
        <mesh filename="bin_convex_piece_37.obj" scale="1.0000E+00 1.0000E+00 1.0000E+00"/>
      </geometry>
    </collision>
  </link>
  <joint name="link_bin_convex_piece_37_joint" type="fixed">
    <origin xyz="0 0 0" rpy="0 0 0"/>
    <parent link="link_bin_convex_piece_36"/>
    <child link="link_bin_convex_piece_37"/>
  </joint>
  <link name="link_bin_convex_piece_38">
    <inertial>
      <origin xyz="0 0 0" rpy="0 0 0"/>
      <mass value="7.96E-02"/>
      <inertia ixx="4.25E-03" ixy="5.26E-03" ixz="2.38E-03" iyy="8.60E-03" iyz="-1.59E-03" izz="1.14E-02"/>
    </inertial>
    <visual>
      <origin xyz="0 0 0" rpy="0 0 0"/>
      <geometry>
        <mesh filename="bin_convex_piece_38.obj" scale="1.0000E+00 1.0000E+00 1.0000E+00"/>
      </geometry>
      <material name=""/>
    </visual>
    <collision>
      <origin xyz="0 0 0" rpy="0 0 0"/>
      <geometry>
        <mesh filename="bin_convex_piece_38.obj" scale="1.0000E+00 1.0000E+00 1.0000E+00"/>
      </geometry>
    </collision>
  </link>
  <joint name="link_bin_convex_piece_38_joint" type="fixed">
    <origin xyz="0 0 0" rpy="0 0 0"/>
    <parent link="link_bin_convex_piece_37"/>
    <child link="link_bin_convex_piece_38"/>
  </joint>
  <link name="link_bin_convex_piece_39">
    <inertial>
      <origin xyz="0 0 0" rpy="0 0 0"/>
      <mass value="2.58E-02"/>
      <inertia ixx="9.16E-04" ixy="1.33E-03" ixz="-6.04E-05" iyy="1.96E-03" iyz="4.21E-05" izz="2.86E-03"/>
    </inertial>
    <visual>
      <origin xyz="0 0 0" rpy="0 0 0"/>
      <geometry>
        <mesh filename="bin_convex_piece_39.obj" scale="1.0000E+00 1.0000E+00 1.0000E+00"/>
      </geometry>
      <material name=""/>
    </visual>
    <collision>
      <origin xyz="0 0 0" rpy="0 0 0"/>
      <geometry>
        <mesh filename="bin_convex_piece_39.obj" scale="1.0000E+00 1.0000E+00 1.0000E+00"/>
      </geometry>
    </collision>
  </link>
  <joint name="link_bin_convex_piece_39_joint" type="fixed">
    <origin xyz="0 0 0" rpy="0 0 0"/>
    <parent link="link_bin_convex_piece_38"/>
    <child link="link_bin_convex_piece_39"/>
  </joint>
  <link name="link_bin_convex_piece_40">
    <inertial>
      <origin xyz="0 0 0" rpy="0 0 0"/>
      <mass value="3.38E-02"/>
      <inertia ixx="1.83E-03" ixy="-2.30E-03" ixz="-1.07E-03" iyy="3.84E-03" iyz="-6.97E-04" izz="5.02E-03"/>
    </inertial>
    <visual>
      <origin xyz="0 0 0" rpy="0 0 0"/>
      <geometry>
        <mesh filename="bin_convex_piece_40.obj" scale="1.0000E+00 1.0000E+00 1.0000E+00"/>
      </geometry>
      <material name=""/>
    </visual>
    <collision>
      <origin xyz="0 0 0" rpy="0 0 0"/>
      <geometry>
        <mesh filename="bin_convex_piece_40.obj" scale="1.0000E+00 1.0000E+00 1.0000E+00"/>
      </geometry>
    </collision>
  </link>
  <joint name="link_bin_convex_piece_40_joint" type="fixed">
    <origin xyz="0 0 0" rpy="0 0 0"/>
    <parent link="link_bin_convex_piece_39"/>
    <child link="link_bin_convex_piece_40"/>
  </joint>
  <link name="link_bin_convex_piece_41">
    <inertial>
      <origin xyz="0 0 0" rpy="0 0 0"/>
      <mass value="4.24E-02"/>
      <inertia ixx="1.86E-03" ixy="2.41E-03" ixz="7.80E-04" iyy="3.66E-03" iyz="-5.42E-04" izz="5.16E-03"/>
    </inertial>
    <visual>
      <origin xyz="0 0 0" rpy="0 0 0"/>
      <geometry>
        <mesh filename="bin_convex_piece_41.obj" scale="1.0000E+00 1.0000E+00 1.0000E+00"/>
      </geometry>
      <material name=""/>
    </visual>
    <collision>
      <origin xyz="0 0 0" rpy="0 0 0"/>
      <geometry>
        <mesh filename="bin_convex_piece_41.obj" scale="1.0000E+00 1.0000E+00 1.0000E+00"/>
      </geometry>
    </collision>
  </link>
  <joint name="link_bin_convex_piece_41_joint" type="fixed">
    <origin xyz="0 0 0" rpy="0 0 0"/>
    <parent link="link_bin_convex_piece_40"/>
    <child link="link_bin_convex_piece_41"/>
  </joint>
  <link name="link_bin_convex_piece_42">
    <inertial>
      <origin xyz="0 0 0" rpy="0 0 0"/>
      <mass value="4.98E-02"/>
      <inertia ixx="1.70E-03" ixy="-2.13E-03" ixz="-2.60E-04" iyy="2.77E-03" iyz="-2.05E-04" izz="4.41E-03"/>
    </inertial>
    <visual>
      <origin xyz="0 0 0" rpy="0 0 0"/>
      <geometry>
        <mesh filename="bin_convex_piece_42.obj" scale="1.0000E+00 1.0000E+00 1.0000E+00"/>
      </geometry>
      <material name=""/>
    </visual>
    <collision>
      <origin xyz="0 0 0" rpy="0 0 0"/>
      <geometry>
        <mesh filename="bin_convex_piece_42.obj" scale="1.0000E+00 1.0000E+00 1.0000E+00"/>
      </geometry>
    </collision>
  </link>
  <joint name="link_bin_convex_piece_42_joint" type="fixed">
    <origin xyz="0 0 0" rpy="0 0 0"/>
    <parent link="link_bin_convex_piece_41"/>
    <child link="link_bin_convex_piece_42"/>
  </joint>
  <link name="link_bin_convex_piece_43">
    <inertial>
      <origin xyz="0 0 0" rpy="0 0 0"/>
      <mass value="3.06E-02"/>
      <inertia ixx="1.15E-03" ixy="-1.67E-03" ixz="-3.04E-04" iyy="2.56E-03" iyz="-2.02E-04" izz="3.63E-03"/>
    </inertial>
    <visual>
      <origin xyz="0 0 0" rpy="0 0 0"/>
      <geometry>
        <mesh filename="bin_convex_piece_43.obj" scale="1.0000E+00 1.0000E+00 1.0000E+00"/>
      </geometry>
      <material name=""/>
    </visual>
    <collision>
      <origin xyz="0 0 0" rpy="0 0 0"/>
      <geometry>
        <mesh filename="bin_convex_piece_43.obj" scale="1.0000E+00 1.0000E+00 1.0000E+00"/>
      </geometry>
    </collision>
  </link>
  <joint name="link_bin_convex_piece_43_joint" type="fixed">
    <origin xyz="0 0 0" rpy="0 0 0"/>
    <parent link="link_bin_convex_piece_42"/>
    <child link="link_bin_convex_piece_43"/>
  </joint>
  <link name="link_bin_convex_piece_44">
    <inertial>
      <origin xyz="0 0 0" rpy="0 0 0"/>
      <mass value="4.74E-02"/>
      <inertia ixx="1.65E-03" ixy="-2.22E-03" ixz="1.28E-04" iyy="3.04E-03" iyz="9.66E-05" izz="4.66E-03"/>
    </inertial>
    <visual>
      <origin xyz="0 0 0" rpy="0 0 0"/>
      <geometry>
        <mesh filename="bin_convex_piece_44.obj" scale="1.0000E+00 1.0000E+00 1.0000E+00"/>
      </geometry>
      <material name=""/>
    </visual>
    <collision>
      <origin xyz="0 0 0" rpy="0 0 0"/>
      <geometry>
        <mesh filename="bin_convex_piece_44.obj" scale="1.0000E+00 1.0000E+00 1.0000E+00"/>
      </geometry>
    </collision>
  </link>
  <joint name="link_bin_convex_piece_44_joint" type="fixed">
    <origin xyz="0 0 0" rpy="0 0 0"/>
    <parent link="link_bin_convex_piece_43"/>
    <child link="link_bin_convex_piece_44"/>
  </joint>
  <link name="link_bin_convex_piece_45">
    <inertial>
      <origin xyz="0 0 0" rpy="0 0 0"/>
      <mass value="8.52E-01"/>
      <inertia ixx="8.72E-03" ixy="3.85E-05" ixz="4.17E-05" iyy="1.32E-02" iyz="2.81E-04" izz="1.86E-02"/>
    </inertial>
    <visual>
      <origin xyz="0 0 0" rpy="0 0 0"/>
      <geometry>
        <mesh filename="bin_convex_piece_45.obj" scale="1.0000E+00 1.0000E+00 1.0000E+00"/>
      </geometry>
      <material name=""/>
    </visual>
    <collision>
      <origin xyz="0 0 0" rpy="0 0 0"/>
      <geometry>
        <mesh filename="bin_convex_piece_45.obj" scale="1.0000E+00 1.0000E+00 1.0000E+00"/>
      </geometry>
    </collision>
  </link>
  <joint name="link_bin_convex_piece_45_joint" type="fixed">
    <origin xyz="0 0 0" rpy="0 0 0"/>
    <parent link="link_bin_convex_piece_44"/>
    <child link="link_bin_convex_piece_45"/>
  </joint>
  <link name="link_bin_convex_piece_46">
    <inertial>
      <origin xyz="0 0 0" rpy="0 0 0"/>
      <mass value="1.69E-02"/>
      <inertia ixx="6.49E-04" ixy="-8.41E-04" ixz="4.82E-05" iyy="1.11E-03" iyz="3.73E-05" izz="1.75E-03"/>
    </inertial>
    <visual>
      <origin xyz="0 0 0" rpy="0 0 0"/>
      <geometry>
        <mesh filename="bin_convex_piece_46.obj" scale="1.0000E+00 1.0000E+00 1.0000E+00"/>
      </geometry>
      <material name=""/>
    </visual>
    <collision>
      <origin xyz="0 0 0" rpy="0 0 0"/>
      <geometry>
        <mesh filename="bin_convex_piece_46.obj" scale="1.0000E+00 1.0000E+00 1.0000E+00"/>
      </geometry>
    </collision>
  </link>
  <joint name="link_bin_convex_piece_46_joint" type="fixed">
    <origin xyz="0 0 0" rpy="0 0 0"/>
    <parent link="link_bin_convex_piece_45"/>
    <child link="link_bin_convex_piece_46"/>
  </joint>
  <link name="link_bin_convex_piece_47">
    <inertial>
      <origin xyz="0 0 0" rpy="0 0 0"/>
      <mass value="2.78E-02"/>
      <inertia ixx="1.06E-03" ixy="1.56E-03" ixz="-4.47E-04" iyy="2.60E-03" iyz="2.76E-04" izz="3.48E-03"/>
    </inertial>
    <visual>
      <origin xyz="0 0 0" rpy="0 0 0"/>
      <geometry>
        <mesh filename="bin_convex_piece_47.obj" scale="1.0000E+00 1.0000E+00 1.0000E+00"/>
      </geometry>
      <material name=""/>
    </visual>
    <collision>
      <origin xyz="0 0 0" rpy="0 0 0"/>
      <geometry>
        <mesh filename="bin_convex_piece_47.obj" scale="1.0000E+00 1.0000E+00 1.0000E+00"/>
      </geometry>
    </collision>
  </link>
  <joint name="link_bin_convex_piece_47_joint" type="fixed">
    <origin xyz="0 0 0" rpy="0 0 0"/>
    <parent link="link_bin_convex_piece_46"/>
    <child link="link_bin_convex_piece_47"/>
  </joint>
  <link name="link_bin_convex_piece_48">
    <inertial>
      <origin xyz="0 0 0" rpy="0 0 0"/>
      <mass value="7.13E-02"/>
      <inertia ixx="7.74E-04" ixy="-3.83E-05" ixz="-6.03E-04" iyy="4.16E-03" iyz="-5.41E-06" izz="4.76E-03"/>
    </inertial>
    <visual>
      <origin xyz="0 0 0" rpy="0 0 0"/>
      <geometry>
        <mesh filename="bin_convex_piece_48.obj" scale="1.0000E+00 1.0000E+00 1.0000E+00"/>
      </geometry>
      <material name=""/>
    </visual>
    <collision>
      <origin xyz="0 0 0" rpy="0 0 0"/>
      <geometry>
        <mesh filename="bin_convex_piece_48.obj" scale="1.0000E+00 1.0000E+00 1.0000E+00"/>
      </geometry>
    </collision>
  </link>
  <joint name="link_bin_convex_piece_48_joint" type="fixed">
    <origin xyz="0 0 0" rpy="0 0 0"/>
    <parent link="link_bin_convex_piece_47"/>
    <child link="link_bin_convex_piece_48"/>
  </joint>
  <link name="link_bin_convex_piece_49">
    <inertial>
      <origin xyz="0 0 0" rpy="0 0 0"/>
      <mass value="1.99E-02"/>
      <inertia ixx="5.50E-04" ixy="7.03E-04" ixz="1.65E-04" iyy="9.85E-04" iyz="-1.23E-04" izz="1.48E-03"/>
    </inertial>
    <visual>
      <origin xyz="0 0 0" rpy="0 0 0"/>
      <geometry>
        <mesh filename="bin_convex_piece_49.obj" scale="1.0000E+00 1.0000E+00 1.0000E+00"/>
      </geometry>
      <material name=""/>
    </visual>
    <collision>
      <origin xyz="0 0 0" rpy="0 0 0"/>
      <geometry>
        <mesh filename="bin_convex_piece_49.obj" scale="1.0000E+00 1.0000E+00 1.0000E+00"/>
      </geometry>
    </collision>
  </link>
  <joint name="link_bin_convex_piece_49_joint" type="fixed">
    <origin xyz="0 0 0" rpy="0 0 0"/>
    <parent link="link_bin_convex_piece_48"/>
    <child link="link_bin_convex_piece_49"/>
  </joint>
  <link name="link_bin_convex_piece_50">
    <inertial>
      <origin xyz="0 0 0" rpy="0 0 0"/>
      <mass value="5.43E-02"/>
      <inertia ixx="1.98E-03" ixy="2.86E-03" ixz="3.28E-04" iyy="4.24E-03" iyz="-2.22E-04" izz="6.15E-03"/>
    </inertial>
    <visual>
      <origin xyz="0 0 0" rpy="0 0 0"/>
      <geometry>
        <mesh filename="bin_convex_piece_50.obj" scale="1.0000E+00 1.0000E+00 1.0000E+00"/>
      </geometry>
      <material name=""/>
    </visual>
    <collision>
      <origin xyz="0 0 0" rpy="0 0 0"/>
      <geometry>
        <mesh filename="bin_convex_piece_50.obj" scale="1.0000E+00 1.0000E+00 1.0000E+00"/>
      </geometry>
    </collision>
  </link>
  <joint name="link_bin_convex_piece_50_joint" type="fixed">
    <origin xyz="0 0 0" rpy="0 0 0"/>
    <parent link="link_bin_convex_piece_49"/>
    <child link="link_bin_convex_piece_50"/>
  </joint>
  <link name="link_bin_convex_piece_51">
    <inertial>
      <origin xyz="0 0 0" rpy="0 0 0"/>
      <mass value="1.06E-01"/>
      <inertia ixx="5.35E-03" ixy="-6.76E-03" ixz="3.16E-03" iyy="1.15E-02" iyz="2.04E-03" izz="1.49E-02"/>
    </inertial>
    <visual>
      <origin xyz="0 0 0" rpy="0 0 0"/>
      <geometry>
        <mesh filename="bin_convex_piece_51.obj" scale="1.0000E+00 1.0000E+00 1.0000E+00"/>
      </geometry>
      <material name=""/>
    </visual>
    <collision>
      <origin xyz="0 0 0" rpy="0 0 0"/>
      <geometry>
        <mesh filename="bin_convex_piece_51.obj" scale="1.0000E+00 1.0000E+00 1.0000E+00"/>
      </geometry>
    </collision>
  </link>
  <joint name="link_bin_convex_piece_51_joint" type="fixed">
    <origin xyz="0 0 0" rpy="0 0 0"/>
    <parent link="link_bin_convex_piece_50"/>
    <child link="link_bin_convex_piece_51"/>
  </joint>
  <link name="link_bin_convex_piece_52">
    <inertial>
      <origin xyz="0 0 0" rpy="0 0 0"/>
      <mass value="7.68E-02"/>
      <inertia ixx="2.65E-03" ixy="3.11E-03" ixz="3.89E-04" iyy="3.83E-03" iyz="-3.26E-04" izz="6.37E-03"/>
    </inertial>
    <visual>
      <origin xyz="0 0 0" rpy="0 0 0"/>
      <geometry>
        <mesh filename="bin_convex_piece_52.obj" scale="1.0000E+00 1.0000E+00 1.0000E+00"/>
      </geometry>
      <material name=""/>
    </visual>
    <collision>
      <origin xyz="0 0 0" rpy="0 0 0"/>
      <geometry>
        <mesh filename="bin_convex_piece_52.obj" scale="1.0000E+00 1.0000E+00 1.0000E+00"/>
      </geometry>
    </collision>
  </link>
  <joint name="link_bin_convex_piece_52_joint" type="fixed">
    <origin xyz="0 0 0" rpy="0 0 0"/>
    <parent link="link_bin_convex_piece_51"/>
    <child link="link_bin_convex_piece_52"/>
  </joint>
  <link name="link_bin_convex_piece_53">
    <inertial>
      <origin xyz="0 0 0" rpy="0 0 0"/>
      <mass value="2.73E-01"/>
      <inertia ixx="9.61E-03" ixy="-6.66E-04" ixz="-1.05E-04" iyy="3.66E-03" iyz="-1.46E-03" izz="1.28E-02"/>
    </inertial>
    <visual>
      <origin xyz="0 0 0" rpy="0 0 0"/>
      <geometry>
        <mesh filename="bin_convex_piece_53.obj" scale="1.0000E+00 1.0000E+00 1.0000E+00"/>
      </geometry>
      <material name=""/>
    </visual>
    <collision>
      <origin xyz="0 0 0" rpy="0 0 0"/>
      <geometry>
        <mesh filename="bin_convex_piece_53.obj" scale="1.0000E+00 1.0000E+00 1.0000E+00"/>
      </geometry>
    </collision>
  </link>
  <joint name="link_bin_convex_piece_53_joint" type="fixed">
    <origin xyz="0 0 0" rpy="0 0 0"/>
    <parent link="link_bin_convex_piece_52"/>
    <child link="link_bin_convex_piece_53"/>
  </joint>
  <link name="link_bin_convex_piece_54">
    <inertial>
      <origin xyz="0 0 0" rpy="0 0 0"/>
      <mass value="4.37E-02"/>
      <inertia ixx="1.70E-03" ixy="3.85E-04" ixz="-1.45E-05" iyy="8.50E-04" iyz="7.17E-05" izz="2.54E-03"/>
    </inertial>
    <visual>
      <origin xyz="0 0 0" rpy="0 0 0"/>
      <geometry>
        <mesh filename="bin_convex_piece_54.obj" scale="1.0000E+00 1.0000E+00 1.0000E+00"/>
      </geometry>
      <material name=""/>
    </visual>
    <collision>
      <origin xyz="0 0 0" rpy="0 0 0"/>
      <geometry>
        <mesh filename="bin_convex_piece_54.obj" scale="1.0000E+00 1.0000E+00 1.0000E+00"/>
      </geometry>
    </collision>
  </link>
  <joint name="link_bin_convex_piece_54_joint" type="fixed">
    <origin xyz="0 0 0" rpy="0 0 0"/>
    <parent link="link_bin_convex_piece_53"/>
    <child link="link_bin_convex_piece_54"/>
  </joint>
  <link name="link_bin_convex_piece_55">
    <inertial>
      <origin xyz="0 0 0" rpy="0 0 0"/>
      <mass value="4.47E-02"/>
      <inertia ixx="4.70E-04" ixy="-6.04E-05" ixz="3.11E-04" iyy="2.94E-03" iyz="6.50E-06" izz="3.34E-03"/>
    </inertial>
    <visual>
      <origin xyz="0 0 0" rpy="0 0 0"/>
      <geometry>
        <mesh filename="bin_convex_piece_55.obj" scale="1.0000E+00 1.0000E+00 1.0000E+00"/>
      </geometry>
      <material name=""/>
    </visual>
    <collision>
      <origin xyz="0 0 0" rpy="0 0 0"/>
      <geometry>
        <mesh filename="bin_convex_piece_55.obj" scale="1.0000E+00 1.0000E+00 1.0000E+00"/>
      </geometry>
    </collision>
  </link>
  <joint name="link_bin_convex_piece_55_joint" type="fixed">
    <origin xyz="0 0 0" rpy="0 0 0"/>
    <parent link="link_bin_convex_piece_54"/>
    <child link="link_bin_convex_piece_55"/>
  </joint>
  <link name="link_bin_convex_piece_56">
    <inertial>
      <origin xyz="0 0 0" rpy="0 0 0"/>
      <mass value="4.19E-02"/>
      <inertia ixx="3.33E-04" ixy="2.75E-04" ixz="3.81E-04" iyy="1.98E-03" iyz="-5.59E-05" izz="2.16E-03"/>
    </inertial>
    <visual>
      <origin xyz="0 0 0" rpy="0 0 0"/>
      <geometry>
        <mesh filename="bin_convex_piece_56.obj" scale="1.0000E+00 1.0000E+00 1.0000E+00"/>
      </geometry>
      <material name=""/>
    </visual>
    <collision>
      <origin xyz="0 0 0" rpy="0 0 0"/>
      <geometry>
        <mesh filename="bin_convex_piece_56.obj" scale="1.0000E+00 1.0000E+00 1.0000E+00"/>
      </geometry>
    </collision>
  </link>
  <joint name="link_bin_convex_piece_56_joint" type="fixed">
    <origin xyz="0 0 0" rpy="0 0 0"/>
    <parent link="link_bin_convex_piece_55"/>
    <child link="link_bin_convex_piece_56"/>
  </joint>
  <link name="link_bin_convex_piece_57">
    <inertial>
      <origin xyz="0 0 0" rpy="0 0 0"/>
      <mass value="4.05E-02"/>
      <inertia ixx="1.84E-03" ixy="-2.37E-03" ixz="-8.73E-04" iyy="3.71E-03" iyz="-5.95E-04" izz="5.11E-03"/>
    </inertial>
    <visual>
      <origin xyz="0 0 0" rpy="0 0 0"/>
      <geometry>
        <mesh filename="bin_convex_piece_57.obj" scale="1.0000E+00 1.0000E+00 1.0000E+00"/>
      </geometry>
      <material name=""/>
    </visual>
    <collision>
      <origin xyz="0 0 0" rpy="0 0 0"/>
      <geometry>
        <mesh filename="bin_convex_piece_57.obj" scale="1.0000E+00 1.0000E+00 1.0000E+00"/>
      </geometry>
    </collision>
  </link>
  <joint name="link_bin_convex_piece_57_joint" type="fixed">
    <origin xyz="0 0 0" rpy="0 0 0"/>
    <parent link="link_bin_convex_piece_56"/>
    <child link="link_bin_convex_piece_57"/>
  </joint>
  <link name="link_bin_convex_piece_58">
    <inertial>
      <origin xyz="0 0 0" rpy="0 0 0"/>
      <mass value="1.79E-01"/>
      <inertia ixx="2.03E-03" ixy="-1.76E-04" ixz="-1.90E-04" iyy="1.37E-02" iyz="-2.35E-06" izz="1.57E-02"/>
    </inertial>
    <visual>
      <origin xyz="0 0 0" rpy="0 0 0"/>
      <geometry>
        <mesh filename="bin_convex_piece_58.obj" scale="1.0000E+00 1.0000E+00 1.0000E+00"/>
      </geometry>
      <material name=""/>
    </visual>
    <collision>
      <origin xyz="0 0 0" rpy="0 0 0"/>
      <geometry>
        <mesh filename="bin_convex_piece_58.obj" scale="1.0000E+00 1.0000E+00 1.0000E+00"/>
      </geometry>
    </collision>
  </link>
  <joint name="link_bin_convex_piece_58_joint" type="fixed">
    <origin xyz="0 0 0" rpy="0 0 0"/>
    <parent link="link_bin_convex_piece_57"/>
    <child link="link_bin_convex_piece_58"/>
  </joint>
  <link name="link_bin_convex_piece_59">
    <inertial>
      <origin xyz="0 0 0" rpy="0 0 0"/>
      <mass value="5.09E-02"/>
      <inertia ixx="1.64E-03" ixy="2.23E-03" ixz="-2.53E-04" iyy="3.11E-03" iyz="1.83E-04" izz="4.70E-03"/>
    </inertial>
    <visual>
      <origin xyz="0 0 0" rpy="0 0 0"/>
      <geometry>
        <mesh filename="bin_convex_piece_59.obj" scale="1.0000E+00 1.0000E+00 1.0000E+00"/>
      </geometry>
      <material name=""/>
    </visual>
    <collision>
      <origin xyz="0 0 0" rpy="0 0 0"/>
      <geometry>
        <mesh filename="bin_convex_piece_59.obj" scale="1.0000E+00 1.0000E+00 1.0000E+00"/>
      </geometry>
    </collision>
  </link>
  <joint name="link_bin_convex_piece_59_joint" type="fixed">
    <origin xyz="0 0 0" rpy="0 0 0"/>
    <parent link="link_bin_convex_piece_58"/>
    <child link="link_bin_convex_piece_59"/>
  </joint>
  <link name="link_bin_convex_piece_60">
    <inertial>
      <origin xyz="0 0 0" rpy="0 0 0"/>
      <mass value="7.05E-02"/>
      <inertia ixx="3.81E-03" ixy="-1.95E-04" ixz="8.83E-05" iyy="2.46E-03" iyz="1.43E-03" izz="4.97E-03"/>
    </inertial>
    <visual>
      <origin xyz="0 0 0" rpy="0 0 0"/>
      <geometry>
        <mesh filename="bin_convex_piece_60.obj" scale="1.0000E+00 1.0000E+00 1.0000E+00"/>
      </geometry>
      <material name=""/>
    </visual>
    <collision>
      <origin xyz="0 0 0" rpy="0 0 0"/>
      <geometry>
        <mesh filename="bin_convex_piece_60.obj" scale="1.0000E+00 1.0000E+00 1.0000E+00"/>
      </geometry>
    </collision>
  </link>
  <joint name="link_bin_convex_piece_60_joint" type="fixed">
    <origin xyz="0 0 0" rpy="0 0 0"/>
    <parent link="link_bin_convex_piece_59"/>
    <child link="link_bin_convex_piece_60"/>
  </joint>
  <link name="link_bin_convex_piece_61">
    <inertial>
      <origin xyz="0 0 0" rpy="0 0 0"/>
      <mass value="1.03E-01"/>
      <inertia ixx="5.66E-03" ixy="6.70E-03" ixz="-2.94E-03" iyy="1.04E-02" iyz="2.08E-03" izz="1.43E-02"/>
    </inertial>
    <visual>
      <origin xyz="0 0 0" rpy="0 0 0"/>
      <geometry>
        <mesh filename="bin_convex_piece_61.obj" scale="1.0000E+00 1.0000E+00 1.0000E+00"/>
      </geometry>
      <material name=""/>
    </visual>
    <collision>
      <origin xyz="0 0 0" rpy="0 0 0"/>
      <geometry>
        <mesh filename="bin_convex_piece_61.obj" scale="1.0000E+00 1.0000E+00 1.0000E+00"/>
      </geometry>
    </collision>
  </link>
  <joint name="link_bin_convex_piece_61_joint" type="fixed">
    <origin xyz="0 0 0" rpy="0 0 0"/>
    <parent link="link_bin_convex_piece_60"/>
    <child link="link_bin_convex_piece_61"/>
  </joint>
  <link name="link_bin_convex_piece_62">
    <inertial>
      <origin xyz="0 0 0" rpy="0 0 0"/>
      <mass value="8.25E-02"/>
      <inertia ixx="4.65E-03" ixy="3.78E-03" ixz="1.70E-03" iyy="4.65E-03" iyz="-1.74E-03" izz="7.73E-03"/>
    </inertial>
    <visual>
      <origin xyz="0 0 0" rpy="0 0 0"/>
      <geometry>
        <mesh filename="bin_convex_piece_62.obj" scale="1.0000E+00 1.0000E+00 1.0000E+00"/>
      </geometry>
      <material name=""/>
    </visual>
    <collision>
      <origin xyz="0 0 0" rpy="0 0 0"/>
      <geometry>
        <mesh filename="bin_convex_piece_62.obj" scale="1.0000E+00 1.0000E+00 1.0000E+00"/>
      </geometry>
    </collision>
  </link>
  <joint name="link_bin_convex_piece_62_joint" type="fixed">
    <origin xyz="0 0 0" rpy="0 0 0"/>
    <parent link="link_bin_convex_piece_61"/>
    <child link="link_bin_convex_piece_62"/>
  </joint>
  <link name="link_bin_convex_piece_63">
    <inertial>
      <origin xyz="0 0 0" rpy="0 0 0"/>
      <mass value="5.25E-02"/>
      <inertia ixx="2.01E-03" ixy="-2.92E-03" ixz="6.29E-04" iyy="4.60E-03" iyz="4.10E-04" izz="6.39E-03"/>
    </inertial>
    <visual>
      <origin xyz="0 0 0" rpy="0 0 0"/>
      <geometry>
        <mesh filename="bin_convex_piece_63.obj" scale="1.0000E+00 1.0000E+00 1.0000E+00"/>
      </geometry>
      <material name=""/>
    </visual>
    <collision>
      <origin xyz="0 0 0" rpy="0 0 0"/>
      <geometry>
        <mesh filename="bin_convex_piece_63.obj" scale="1.0000E+00 1.0000E+00 1.0000E+00"/>
      </geometry>
    </collision>
  </link>
  <joint name="link_bin_convex_piece_63_joint" type="fixed">
    <origin xyz="0 0 0" rpy="0 0 0"/>
    <parent link="link_bin_convex_piece_62"/>
    <child link="link_bin_convex_piece_63"/>
  </joint>
</robot>
